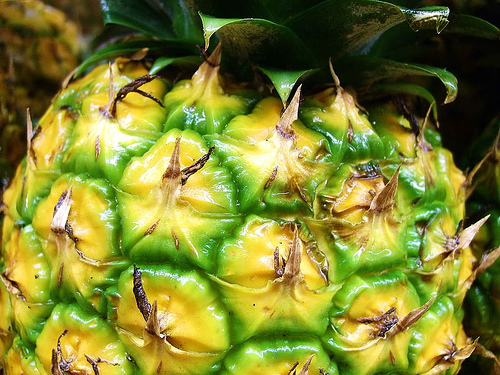pineapple: (0, 0, 498, 373)
